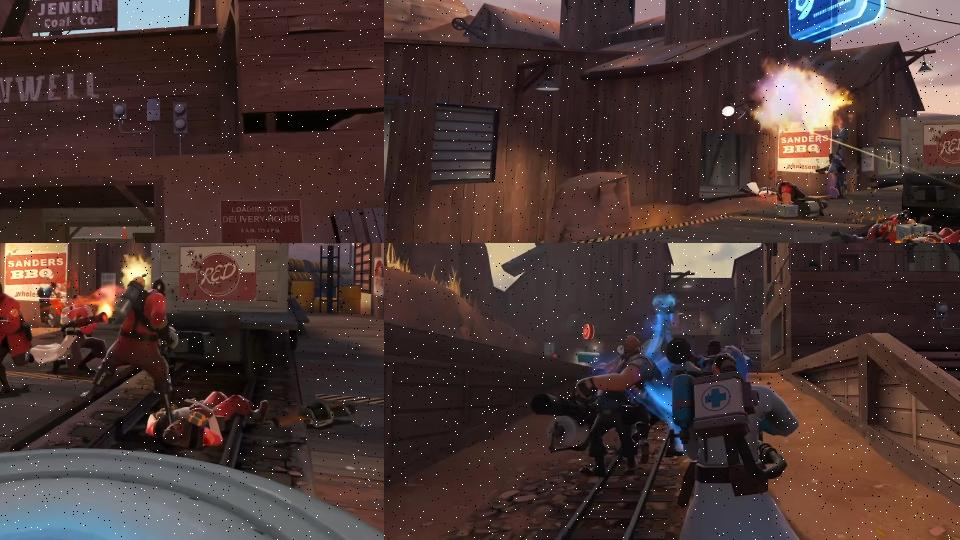Enemy: (655, 350, 864, 540), (529, 335, 663, 478), (79, 273, 180, 426), (145, 391, 269, 451), (29, 293, 109, 376), (0, 279, 35, 396), (828, 209, 917, 243), (815, 153, 849, 198), (895, 226, 960, 243), (37, 282, 60, 328), (776, 181, 820, 204), (828, 124, 848, 163), (736, 182, 776, 200)
